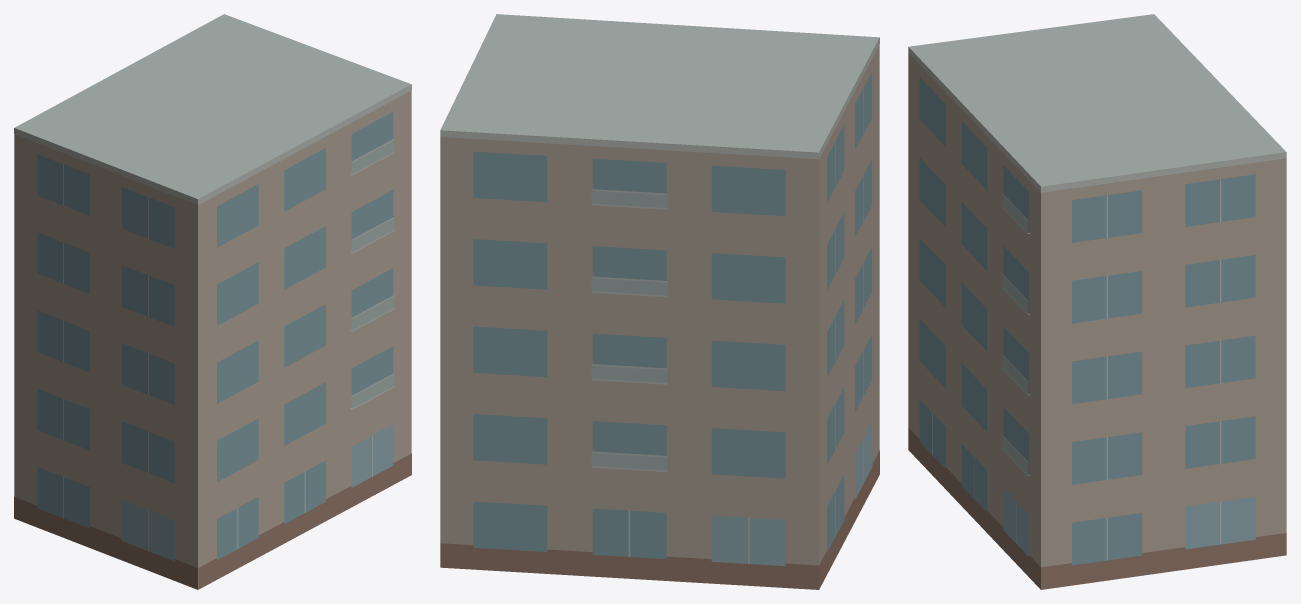
File: survey-upis-32883344.glb
The picture shows the model from 3 angles, left to right: view 1: azimuth 30°, elevation 25°; view 2: azimuth 150°, elevation 25°; view 3: azimuth 270°, elevation 25°; orthographic projection. The views are drawn at different scales.
Parts seen in each view (by area): view 1: survey-upis-32883344.tmp; view 2: survey-upis-32883344.tmp; view 3: survey-upis-32883344.tmp.
Boxes of the visible parts, x1,y1,x2,y2 form: survey-upis-32883344.tmp: (14, 14, 411, 589); survey-upis-32883344.tmp: (440, 14, 879, 589); survey-upis-32883344.tmp: (908, 14, 1286, 589).
Bounding box in the file's own units: 14.52 × 15.8 × 13.44.
